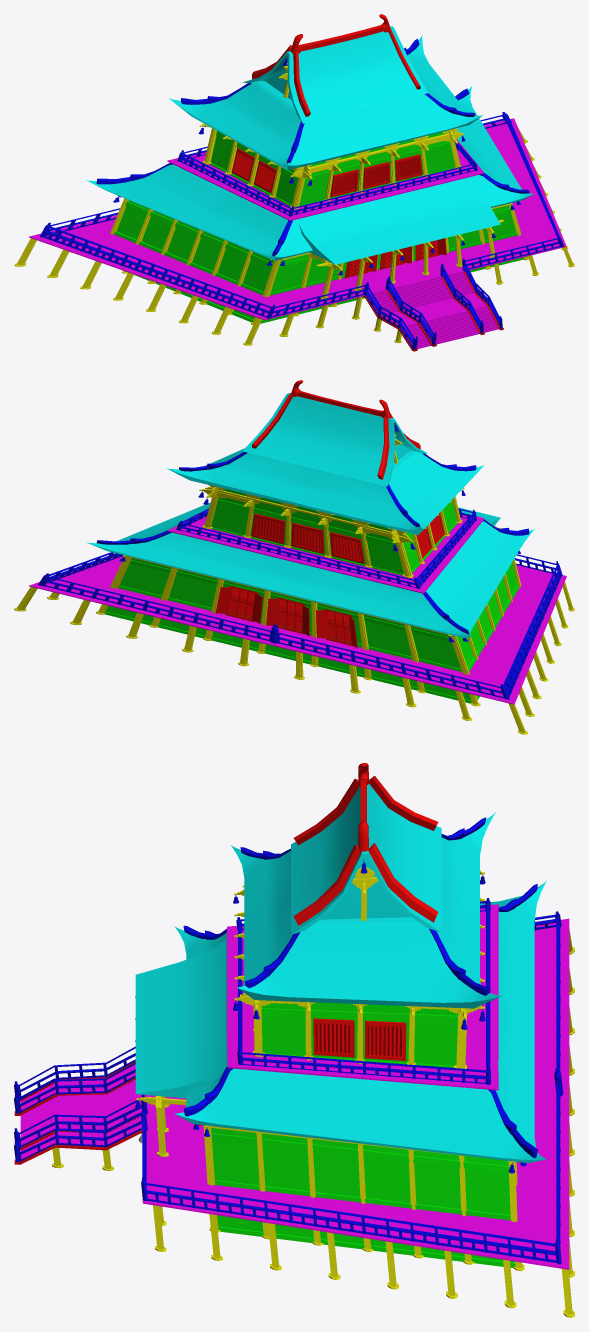
Rendered from deformed_temple2.fbx.
3 views of the same model, one above another, from view 1: azimuth 30°, elevation 25°; view 2: azimuth 150°, elevation 25°; view 3: azimuth 270°, elevation 25° (orthographic). The views are drawn at different scales.
Parts seen in each view (by area): view 1: lp_temple; view 2: lp_temple; view 3: lp_temple.
Boxes of the visible parts, box(x1,y1,x2,y2) form: lp_temple: box(14, 14, 574, 351); lp_temple: box(14, 380, 574, 734); lp_temple: box(14, 763, 574, 1317).
Size of the model in its own units: 109 by 47.81 by 70.02.
